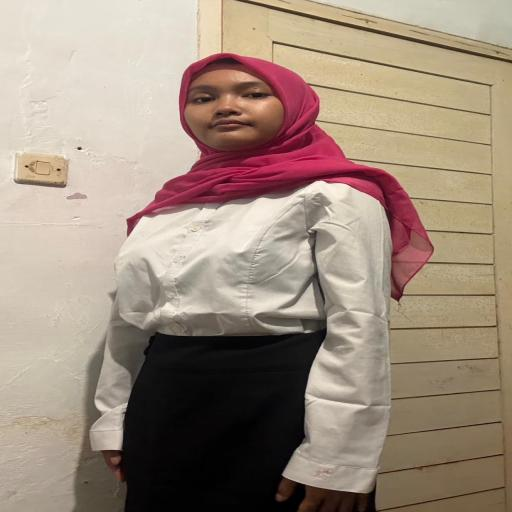kemeja_benar: (112, 188, 412, 340)
kerudung_benar: (126, 50, 396, 196)
rok_benar: (128, 334, 373, 512)
